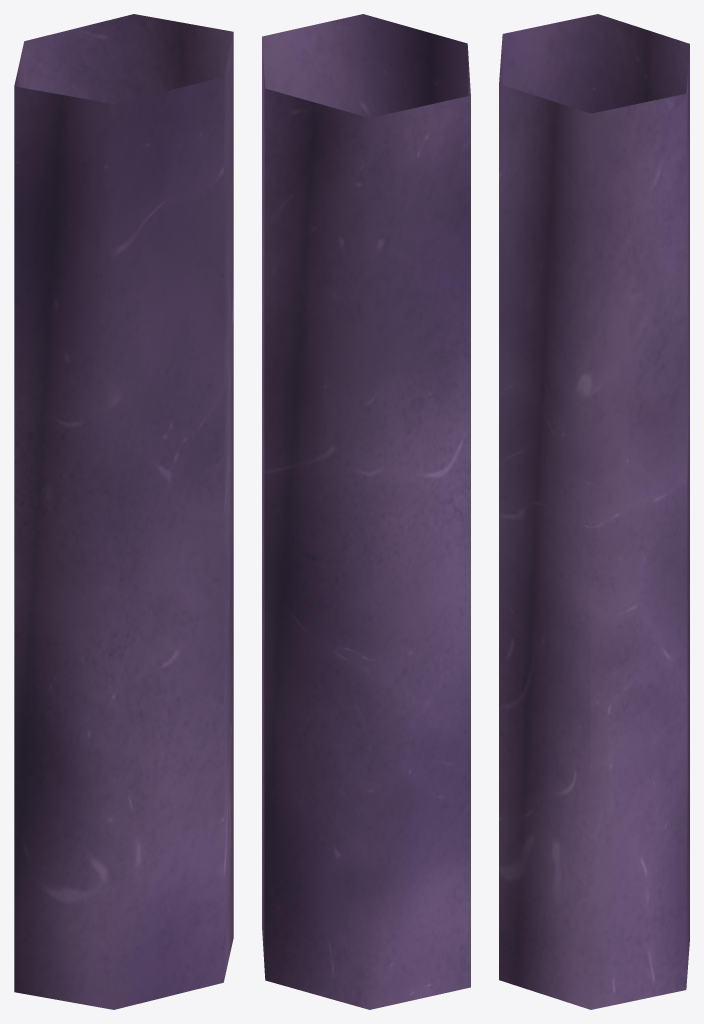
Rendered from PaintStream.glb.
3 views of the same model, side by side, from view 1: azimuth 30°, elevation 25°; view 2: azimuth 150°, elevation 25°; view 3: azimuth 270°, elevation 25° (orthographic).
Visible parts, largest first — view 1: Paint.001; view 2: Paint.001; view 3: Paint.001.
Boxes of the visible parts, <box> form: Paint.001: <box>14,14,233,1009</box>; Paint.001: <box>262,14,470,1009</box>; Paint.001: <box>499,14,689,1009</box>.
Size of the model in its own units: 1.87 by 7.57 by 1.45.
1 material, 1 textured.
